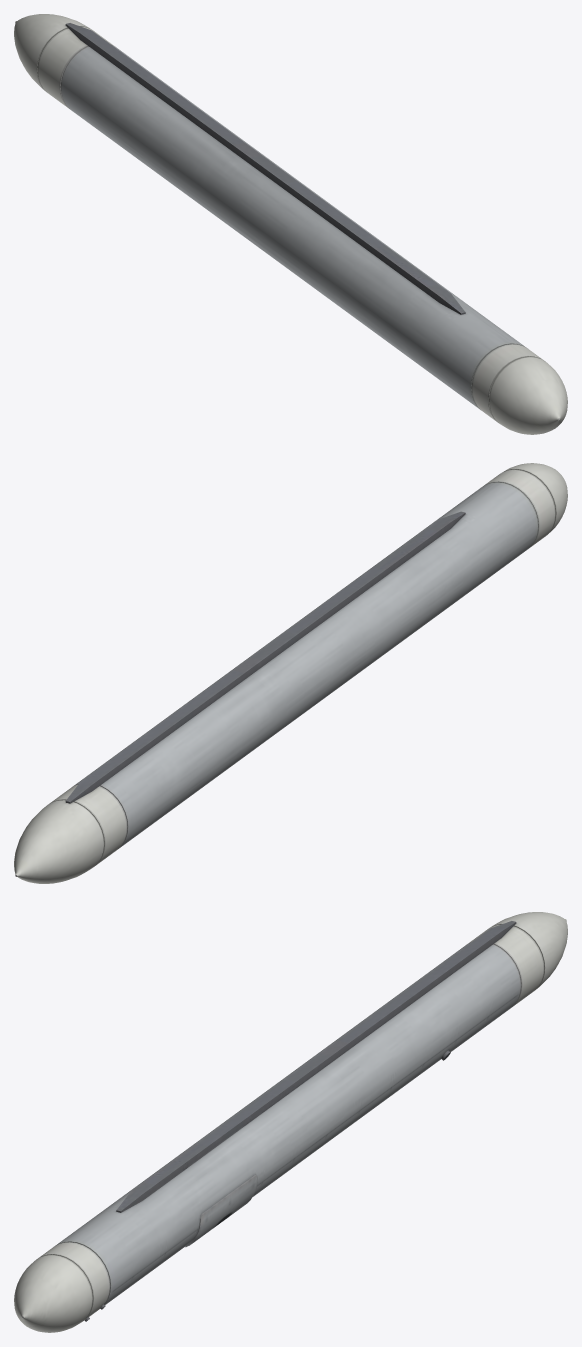
The model's file is sorbtsiya.glb.
3 renders of one model, top to bottom at view 1: azimuth 30°, elevation 25°; view 2: azimuth 150°, elevation 25°; view 3: azimuth 330°, elevation 25°, orthographic.
Parts seen in each view (by area): view 1: SRB_body, SRB_rail; view 2: SRB_body, SRB_rail; view 3: SRB_body, SRB_rail, SRB_hatch.
Part boxes in pixels (x1,y1,x2,y2): SRB_body: (14,14,567,434); SRB_rail: (65,23,465,314); SRB_body: (14,463,567,883); SRB_rail: (65,511,465,803); SRB_body: (14,912,567,1332); SRB_rail: (116,921,516,1212); SRB_hatch: (185,1175,257,1247).
Size of the model in its own units: 0.3075 by 0.326 by 4.2.
Materials: 3 (3 with a texture image).
